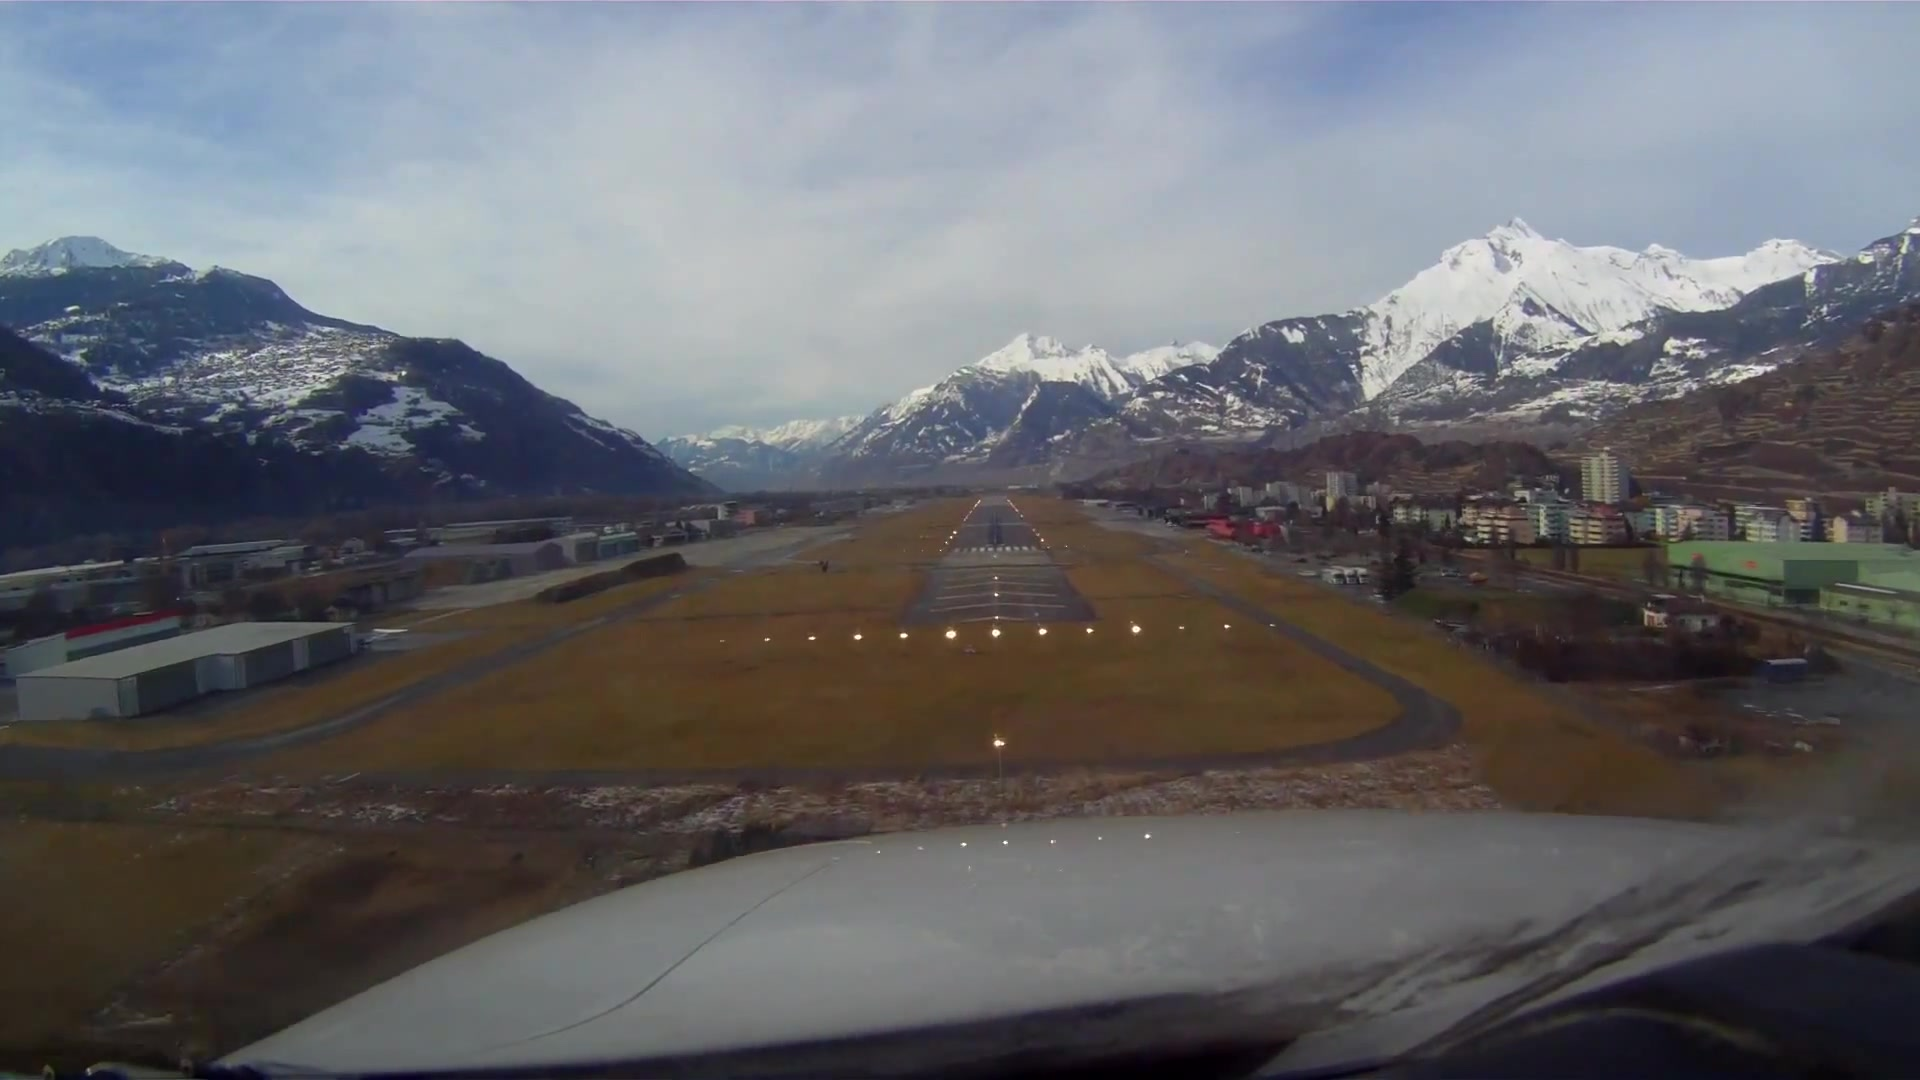entrance: (955, 545, 1039, 556)
runway: (939, 488, 1052, 568)
